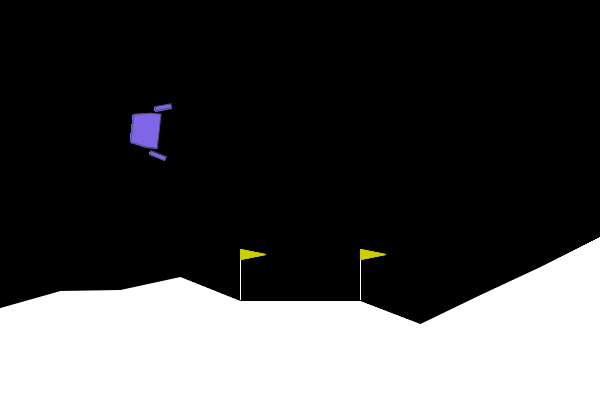lander: (126, 99, 173, 163)
